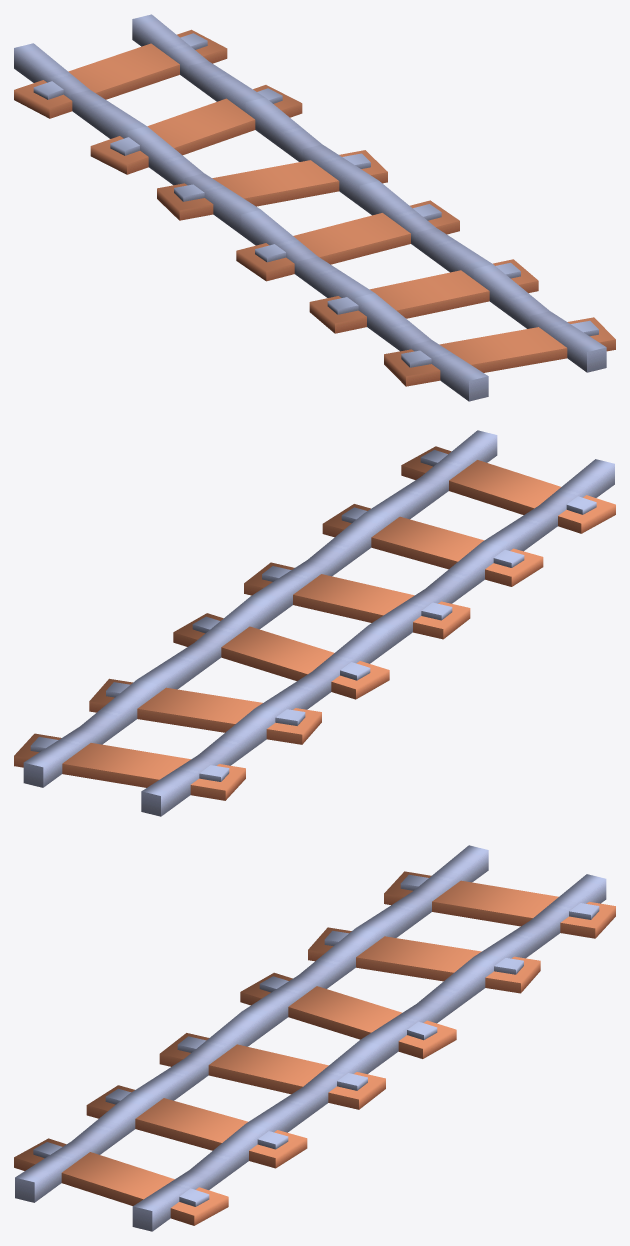
File: kenney-train-railroad-damaged-straight.glb
3 views of the same model, one above another, from view 1: azimuth 30°, elevation 25°; view 2: azimuth 150°, elevation 25°; view 3: azimuth 330°, elevation 25° (orthographic).
Visible parts, largest first — view 1: railroad-damaged-straight; view 2: railroad-damaged-straight; view 3: railroad-damaged-straight.
Boxes of the visible parts, <box> form: railroad-damaged-straight: <box>14,14,615,401</box>; railroad-damaged-straight: <box>14,430,615,816</box>; railroad-damaged-straight: <box>14,845,615,1231</box>.
Bounding box in the file's own units: 1.03 × 0.1001 × 4.
1 material, 1 textured.
